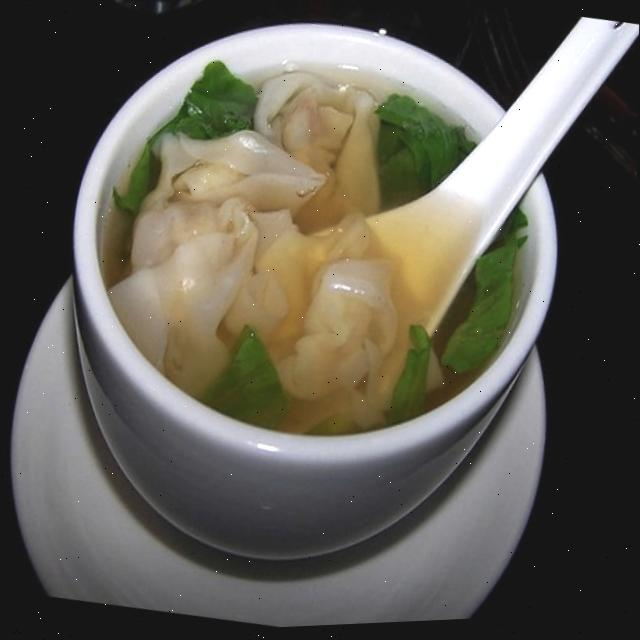汤锅炖物: (37, 0, 585, 536)
